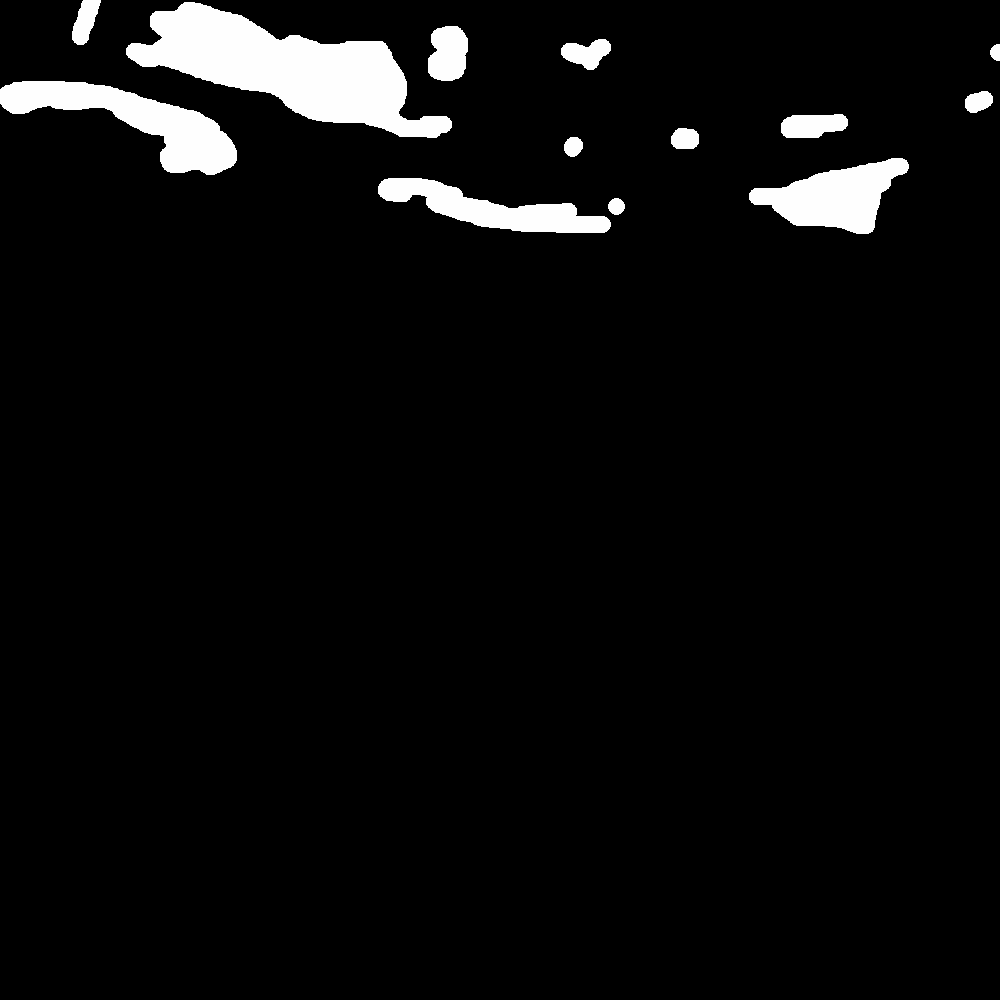illegal: (123, 1, 403, 132), (1, 81, 213, 178), (780, 158, 935, 236), (381, 181, 596, 237), (436, 26, 470, 80), (552, 41, 611, 67), (411, 115, 458, 139), (972, 92, 993, 116), (672, 125, 688, 148), (787, 115, 806, 133)
